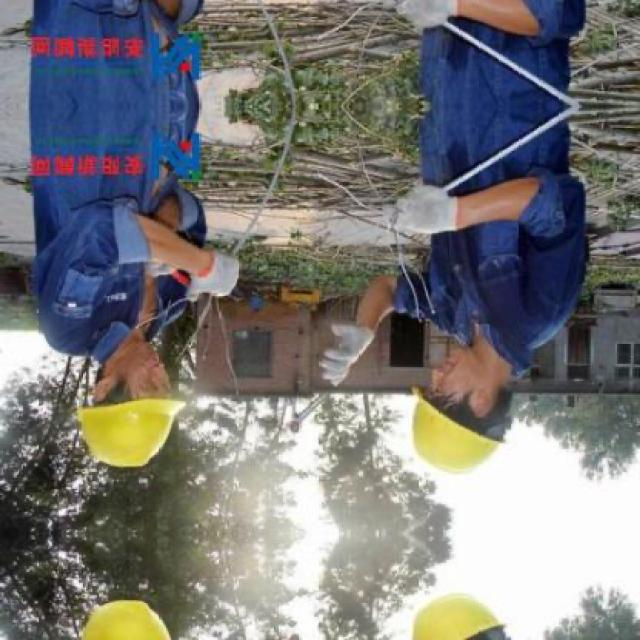con casco: (401, 343, 506, 473), (70, 390, 191, 468), (399, 591, 503, 640), (79, 599, 169, 640)
